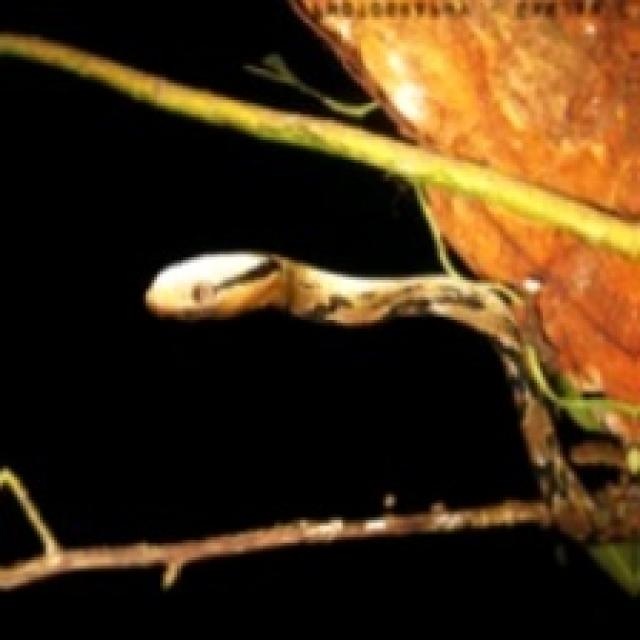dog-toothed cat snake: (145, 252, 520, 352)
